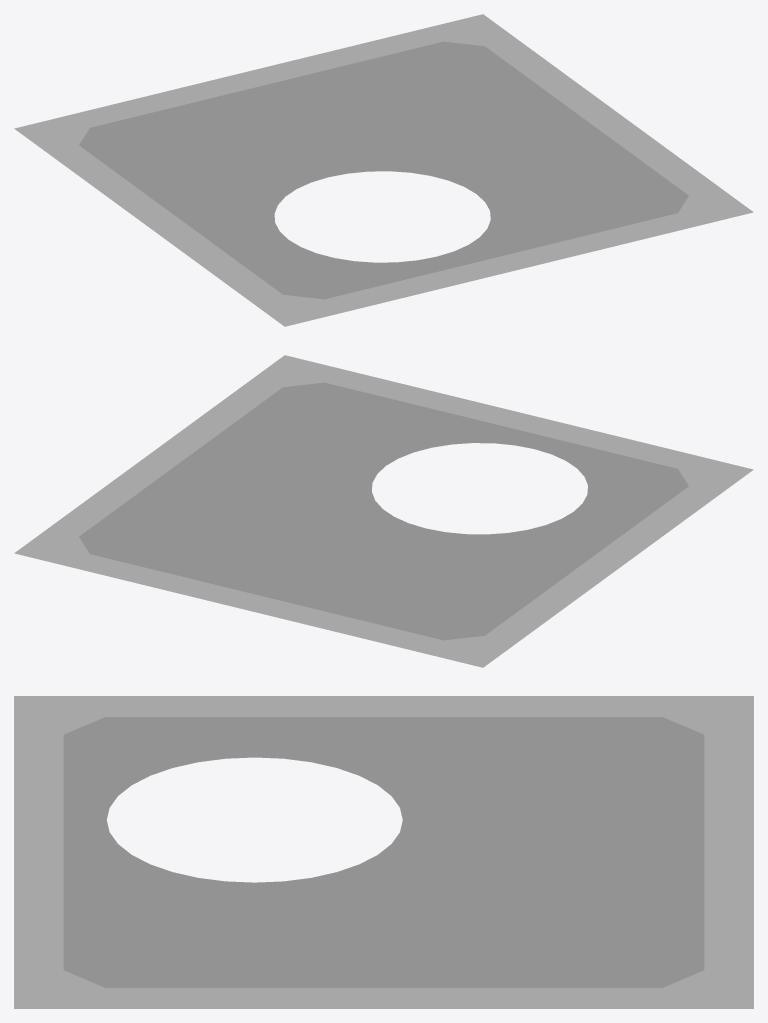
Rendered from modifiedfloorpiec.fbx.
3 views of the same model, one above another, from view 1: azimuth 30°, elevation 25°; view 2: azimuth 150°, elevation 25°; view 3: azimuth 270°, elevation 25° (orthographic). The views are drawn at different scales.
Visible parts, largest first — view 1: Modified Floor Piece; view 2: Modified Floor Piece; view 3: Modified Floor Piece.
Boxes of the visible parts, box(x1,y1,x2,y2) form: Modified Floor Piece: box(14, 14, 753, 326); Modified Floor Piece: box(14, 355, 753, 667); Modified Floor Piece: box(14, 696, 753, 1008).
Size of the model in its own units: 375 by 6.56e-05 by 375.
